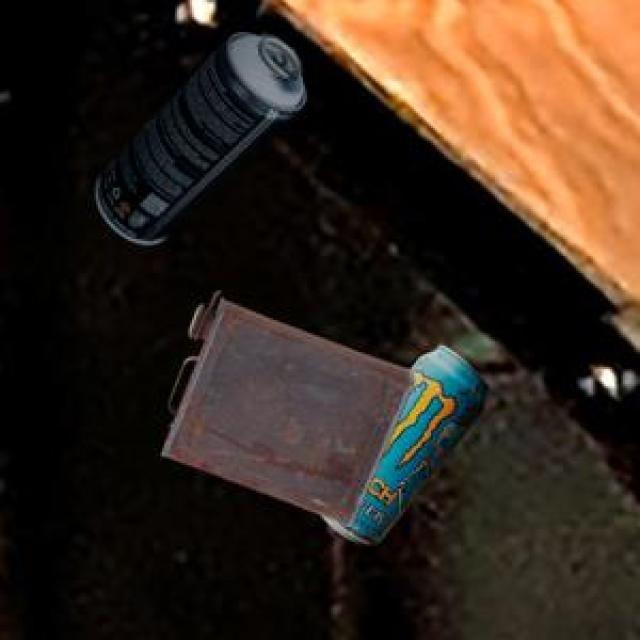logam: (159, 289, 411, 524), (93, 29, 302, 242), (321, 342, 485, 543)
